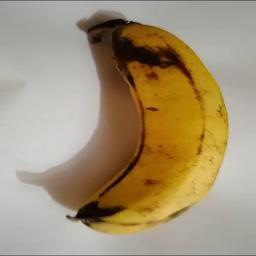Banana Semifresh: (78, 8, 233, 229)
